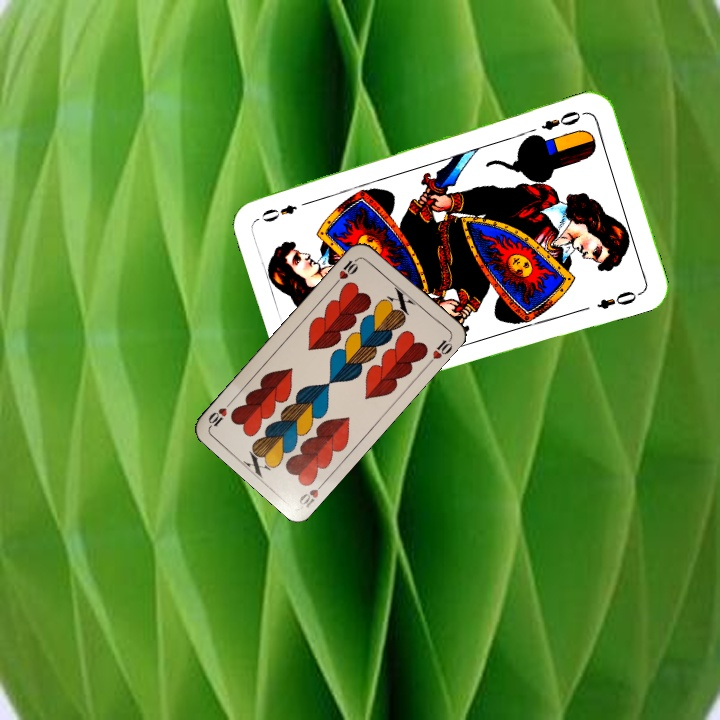EO: (537, 107, 589, 133)
H10: (295, 476, 329, 511), (331, 253, 362, 287)
